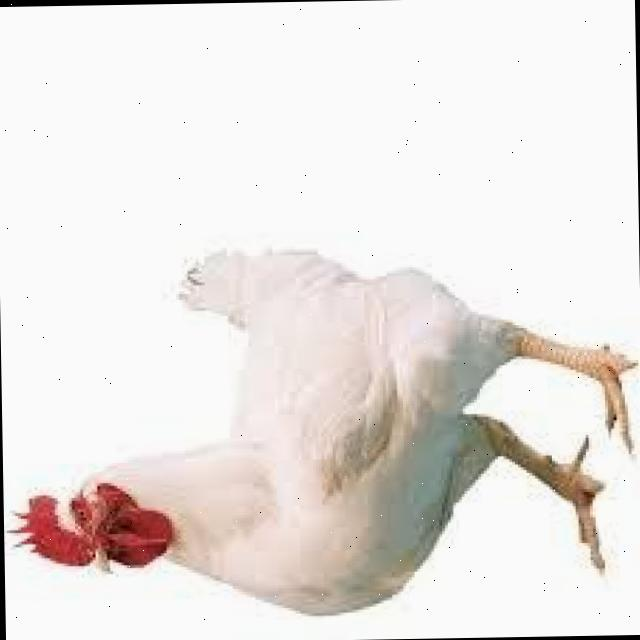Healthy: (2, 245, 636, 623)
